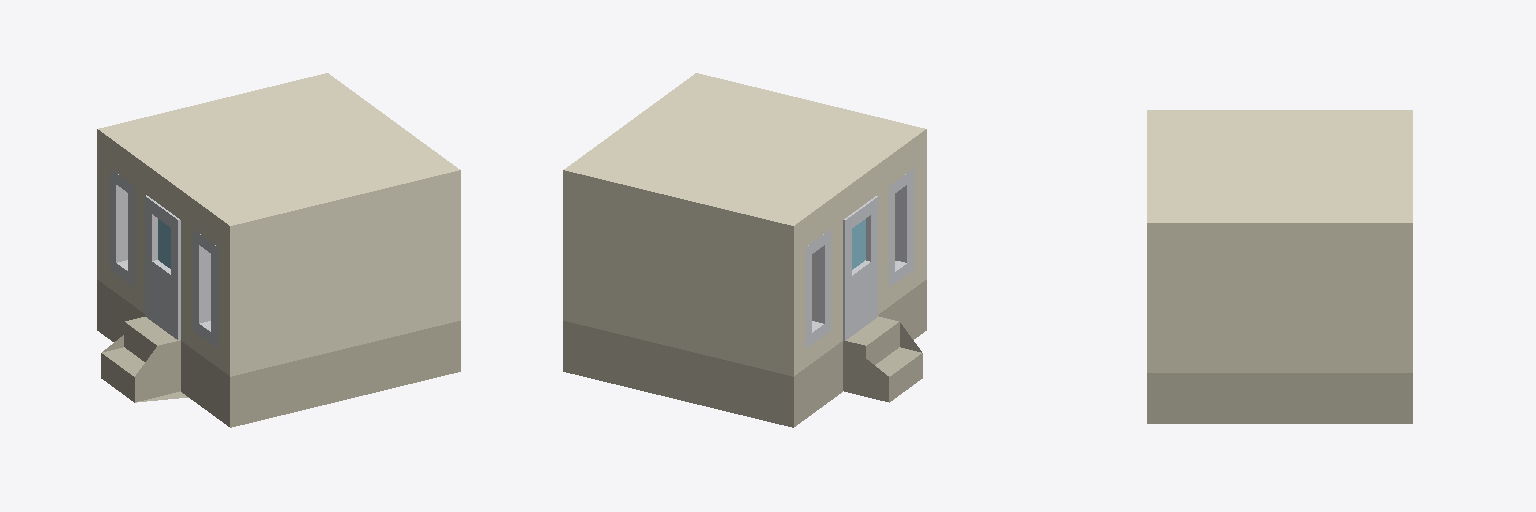
Rendered from modularBuildings_024.obj.
3 renders of one model, left to right at view 1: azimuth 30°, elevation 25°; view 2: azimuth 150°, elevation 25°; view 3: azimuth 270°, elevation 25°, orthographic.
Visible parts, largest first — view 1: Mesh1_Group1_Model, Mesh1_Group1_Model.001, Mesh1_Group1_Model.003, Mesh1_Group1_Model.002_Mesh1_Group1_Model.004; view 2: Mesh1_Group1_Model, Mesh1_Group1_Model.001, Mesh1_Group1_Model.002_Mesh1_Group1_Model.004, Mesh1_Group1_Model.003; view 3: Mesh1_Group1_Model.
Part boxes in pixels (left/top/right/bottom): Mesh1_Group1_Model: left=97, top=73, right=460, bottom=427; Mesh1_Group1_Model.001: left=145, top=195, right=180, bottom=339; Mesh1_Group1_Model.003: left=193, top=229, right=217, bottom=348; Mesh1_Group1_Model.002_Mesh1_Group1_Model.004: left=110, top=169, right=134, bottom=287; Mesh1_Group1_Model: left=563, top=73, right=926, bottom=427; Mesh1_Group1_Model.001: left=843, top=196, right=877, bottom=340; Mesh1_Group1_Model.002_Mesh1_Group1_Model.004: left=806, top=229, right=830, bottom=348; Mesh1_Group1_Model.003: left=889, top=169, right=913, bottom=287; Mesh1_Group1_Model: left=1147, top=110, right=1412, bottom=423.
Size of the model in its own units: 1.2 by 0.8375 by 1.